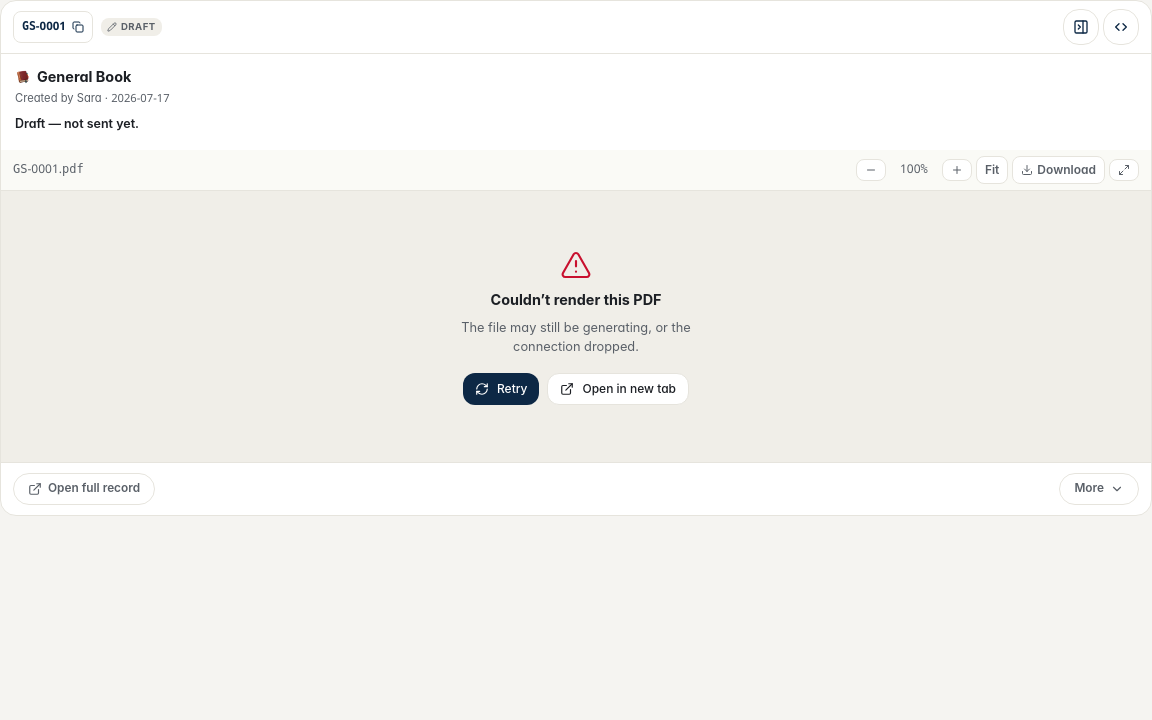
RecordPane footer › hides Link in More without books.edit even when the record allows writes
The width and height of the screenshot is (1152, 720).
Step 1. Click the button "More" → (1099, 489), box [1060, 473, 1139, 505]
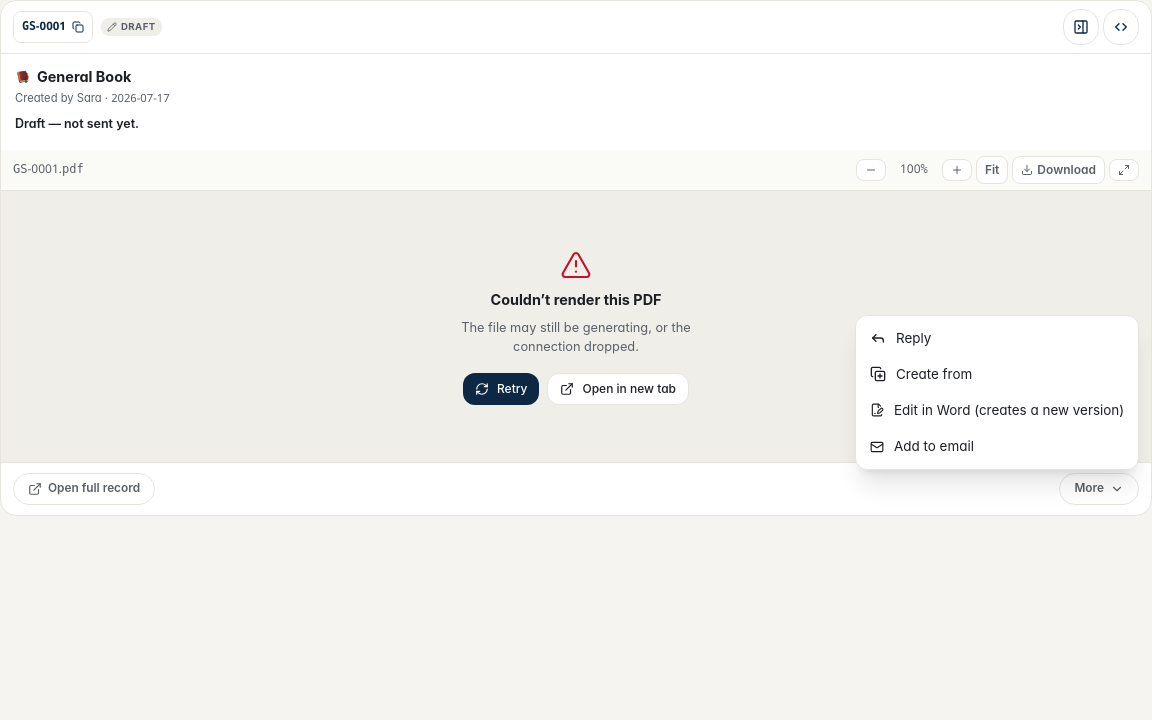
Now the menu item "Reply" is shown, box [870, 330, 931, 346]
Now the menu item "Create from" is shown, box [870, 366, 972, 382]
